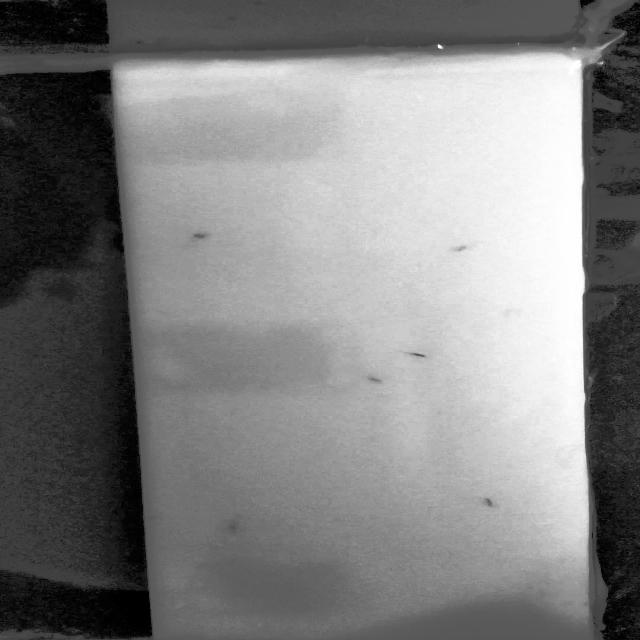shrimp: (211, 516, 253, 540), (442, 237, 485, 260), (180, 223, 222, 246), (473, 494, 505, 512), (398, 346, 434, 360)
